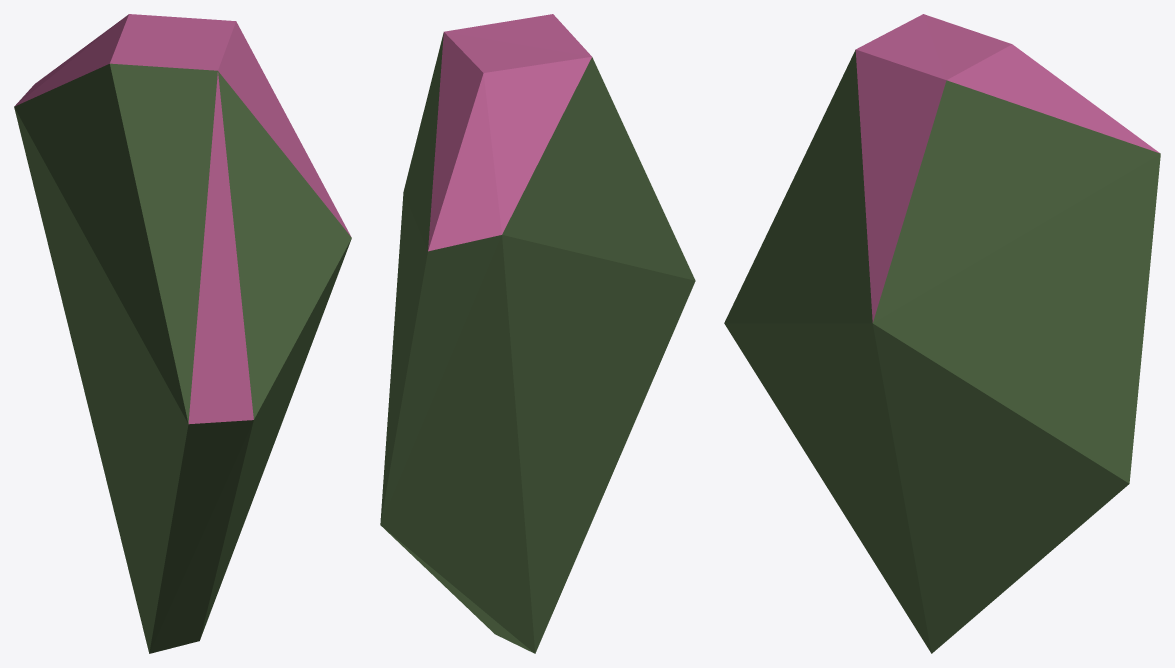
Rendered from CactusFlowers_2.lod4.glb.
The picture shows the model from 3 angles, left to right: view 1: azimuth 30°, elevation 25°; view 2: azimuth 150°, elevation 25°; view 3: azimuth 270°, elevation 25°; orthographic projection.
Parts seen in each view (by area): view 1: CactusFlowers_2; view 2: CactusFlowers_2; view 3: CactusFlowers_2.
Boxes of the visible parts, box(x1,y1,x2,y2) form: CactusFlowers_2: box(14, 14, 351, 653); CactusFlowers_2: box(380, 14, 695, 653); CactusFlowers_2: box(724, 14, 1160, 653).
Bounding box in the file's own units: 0.7692 × 1.95 × 1.29.
